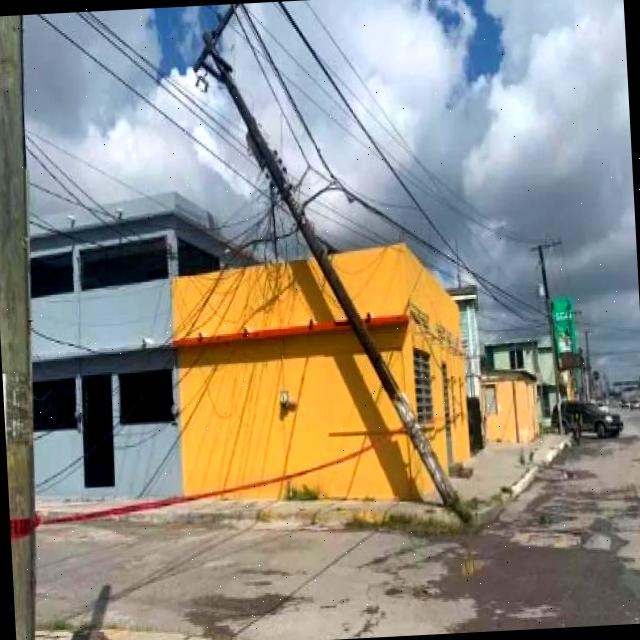Broken Pole: (188, 5, 470, 525)
